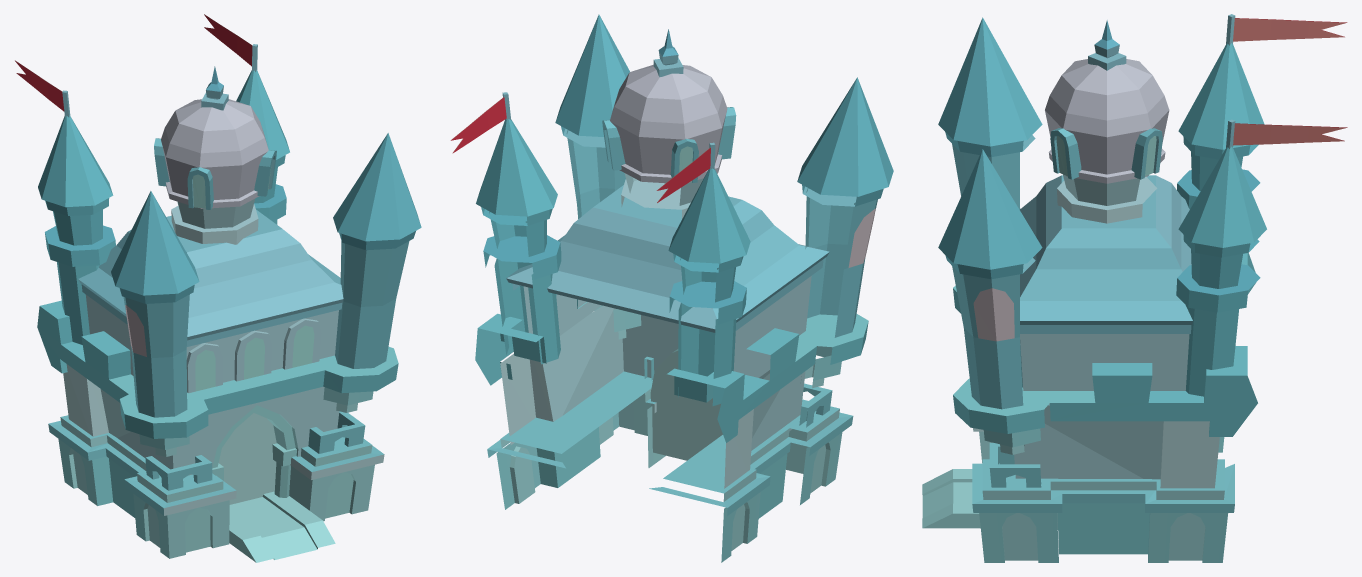
The model's file is castle02.fbx.
3 renders of one model, left to right at view 1: azimuth 30°, elevation 25°; view 2: azimuth 150°, elevation 25°; view 3: azimuth 270°, elevation 25°, orthographic. The views are drawn at different scales.
Visible parts, largest first — view 1: castle02; view 2: castle02; view 3: castle02.
Boxes of the visible parts, x1,y1,x2,y2 form: castle02: (15, 14, 421, 562); castle02: (450, 14, 893, 562); castle02: (922, 14, 1347, 562).
Bounding box in the file's own units: 11.98 × 16.32 × 12.87.
